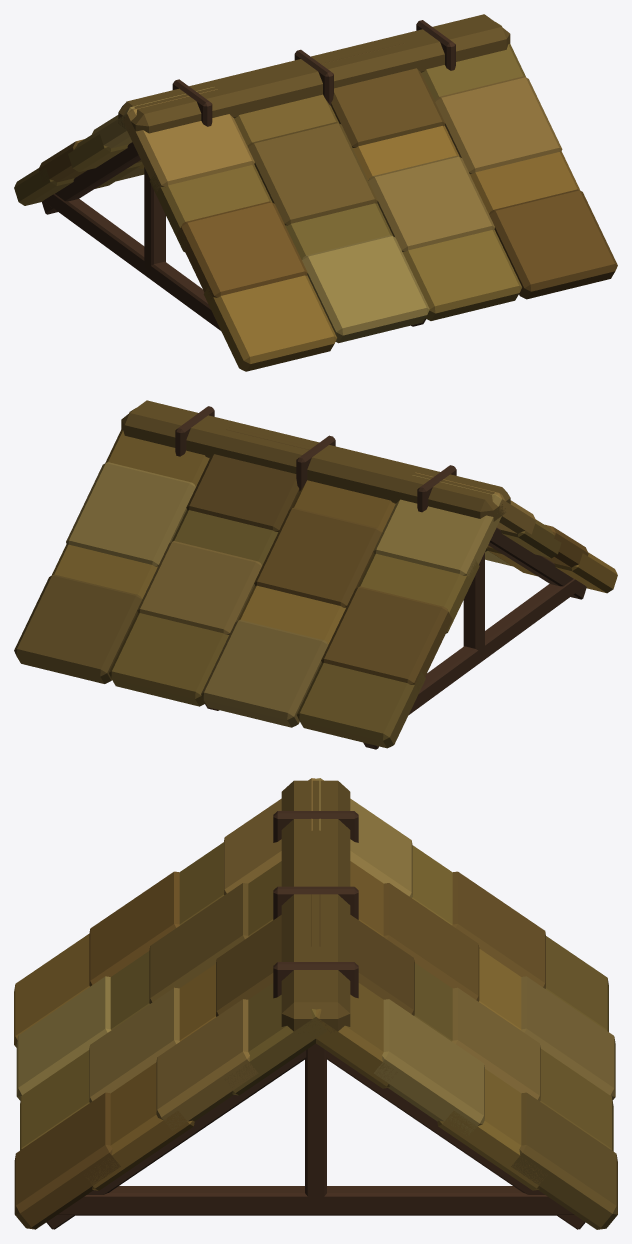
File: piece_thatchpeak.glb
3 renders of one model, top to bottom at view 1: azimuth 30°, elevation 25°; view 2: azimuth 150°, elevation 25°; view 3: azimuth 270°, elevation 25°, orthographic. The views are drawn at different scales.
Visible parts, largest first — view 1: Base; view 2: Base; view 3: Base.
Boxes of the visible parts, left/top/right/bottom form: Base: left=14, top=14, right=617, bottom=371; Base: left=14, top=400, right=617, bottom=749; Base: left=14, top=778, right=617, bottom=1229.
Size of the model in its own units: 4 by 1.92 by 4.39.
